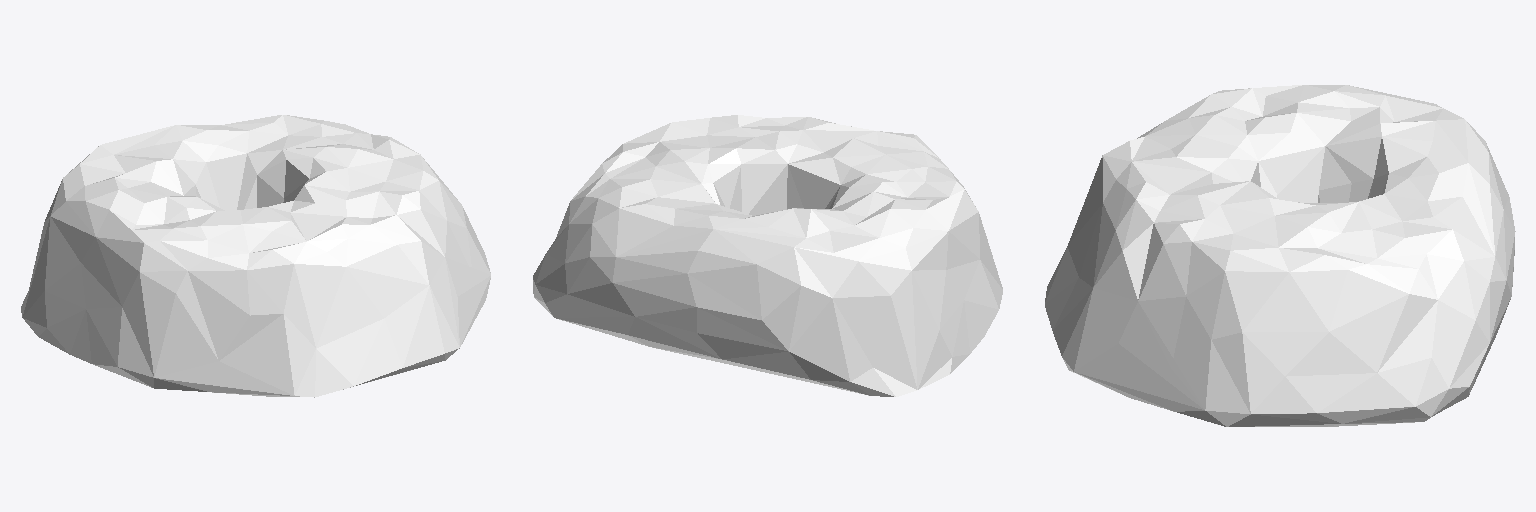
robot.urdf — objects/object_2.obj:
<robot name="objects/object_2.obj">
	<link name="_name">
		<visual>
			<origin xyz="-0.0677359879954151 0.026102919355610352 0.8713480246998726" rpy="0.0 0.0 0.0" />
			<geometry>
				<mesh filename="objects/object_2.obj" scale="1 1 1" />
			</geometry>
			<material name="texture">
				<color rgba="1.0 1.0 1.0 1.0" />
			</material>
		</visual>
		<collision>
			<origin xyz="-0.0677359879954151 0.026102919355610352 0.8713480246998726" rpy="0.0 0.0 0.0" />
			<geometry>
				<mesh filename="objects/object_2_vhacd.obj" scale="1 1 1" />
			</geometry>
		</collision>
		<inertial>
			<mass value="1.0" />
			<inertia ixx="1.0" ixy="0.0" ixz="0.0" iyy="1.0" iyz="0.0" izz="1.0" />
		</inertial>
	</link>
</robot>

--- Facts derived from the render (not from the file) ---
Views: 3 orthographic renders of the robot side by side, from view 1: azimuth 30°, elevation 25°; view 2: azimuth 150°, elevation 25°; view 3: azimuth 270°, elevation 25°.
Robot: objects/object_2.obj — 1 links, 0 joints (none); root link _name; default pose: every joint at zero.
Links seen in each view (by area): view 1: _name; view 2: _name; view 3: _name.
Link boxes in pixels (box(x1,y1,x2,y2)): _name: box(21, 115, 490, 397); _name: box(533, 115, 1002, 396); _name: box(1045, 85, 1515, 426).
Bounding box of the posed robot: 0.0901 × 0.0795 × 0.0299 m (x, y, z).
Meshes: 1 distinct files referenced, 1 mesh visuals loaded (1 OBJ).